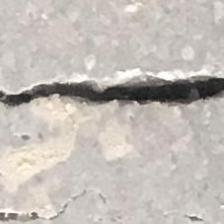Crack: (0, 65, 224, 127)
